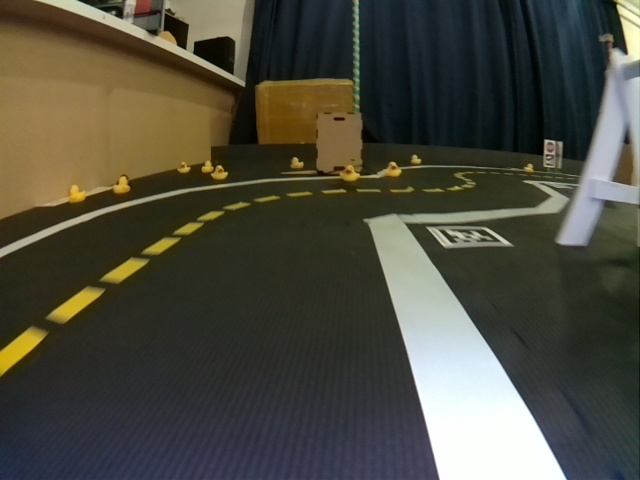Duckie: (113, 176, 131, 194), (68, 185, 87, 202), (340, 165, 360, 181), (212, 165, 229, 179), (385, 162, 402, 176), (290, 157, 304, 168), (202, 161, 213, 171), (178, 162, 190, 171), (523, 163, 533, 173), (411, 155, 420, 163)
QR code: (428, 225, 513, 246), (546, 158, 554, 166)
